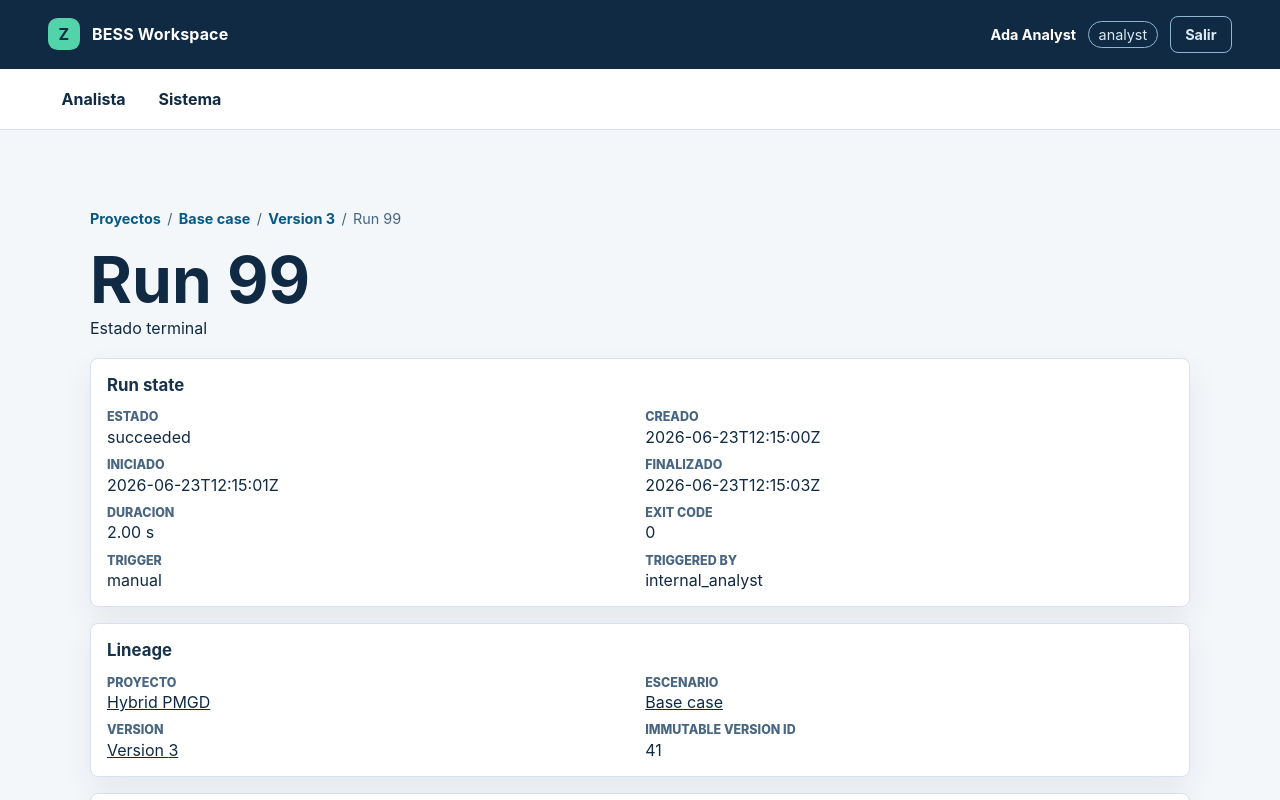
Scenario: application shell › renders succeeded run results with Plotly charts, bounded tables, and safe artifacts
The width and height of the screenshot is (1280, 800).
Click the link "Analista".
click(94, 99)  # box [62,89,126,109]
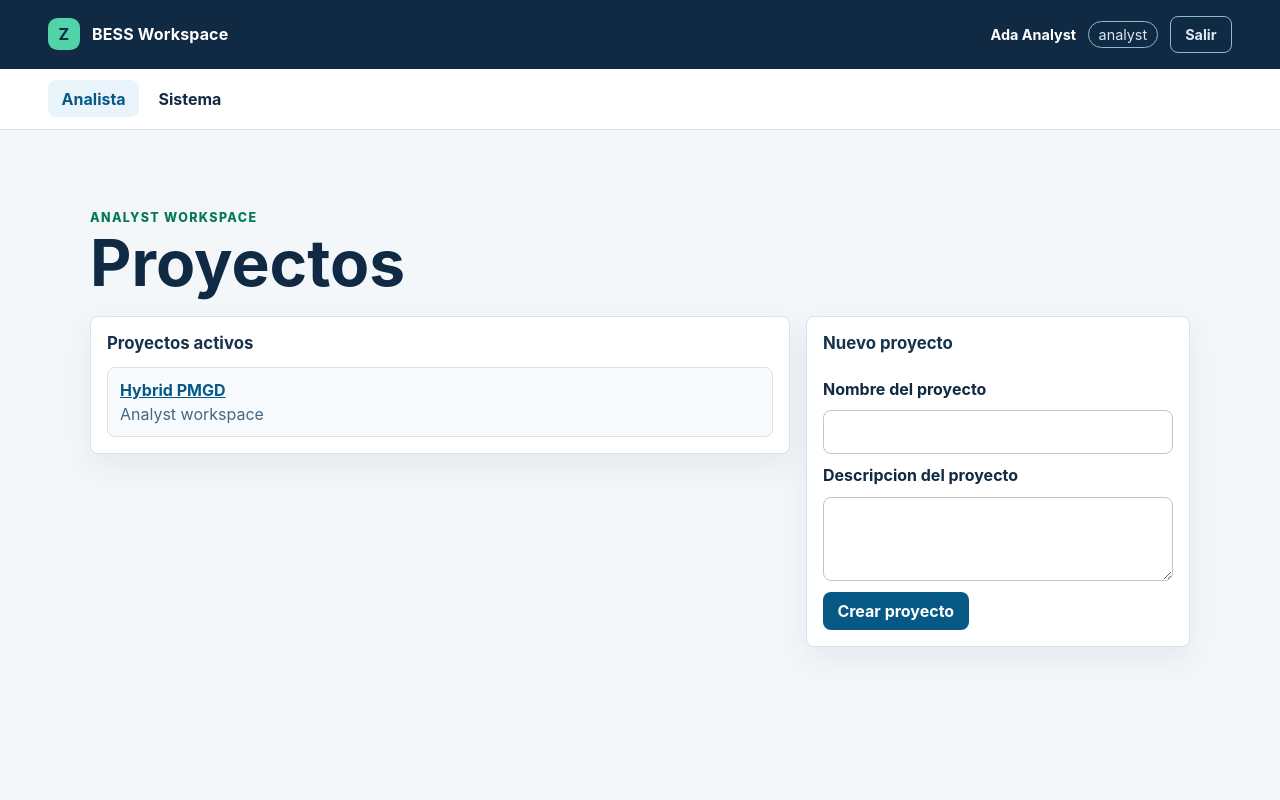
Check: the heading "Proyectos" is shown, box [90,224,405,301]
